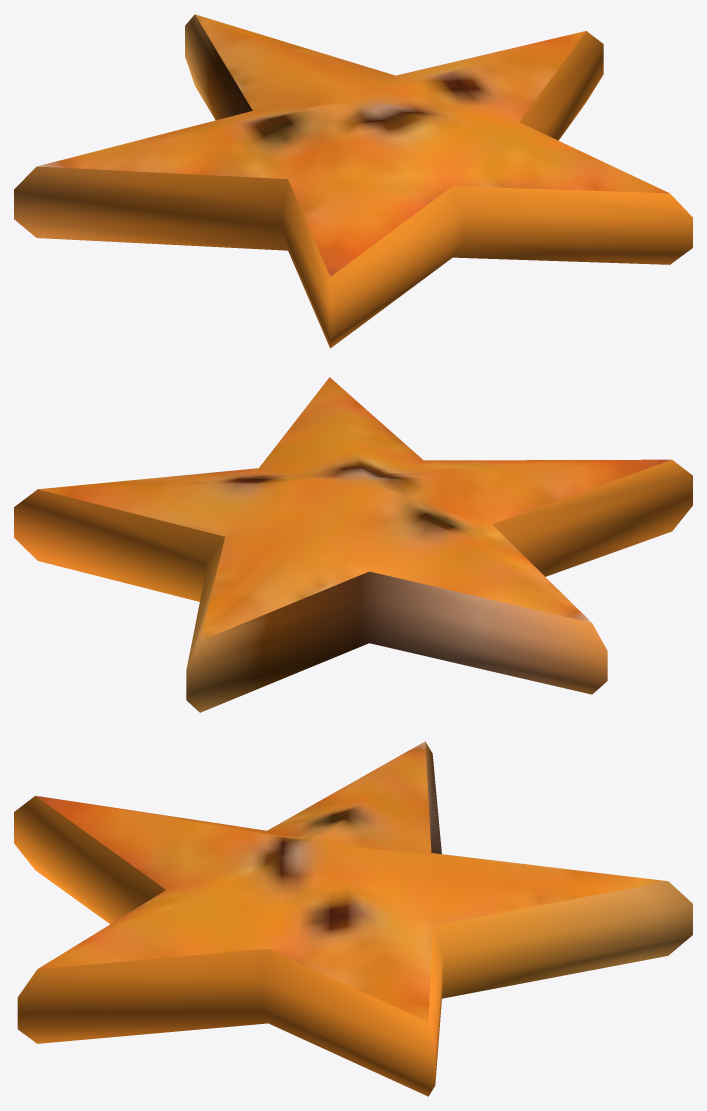
Rendered from Star01.glb.
The picture shows the model from 3 angles, top to bottom: view 1: azimuth 30°, elevation 25°; view 2: azimuth 150°, elevation 25°; view 3: azimuth 270°, elevation 25°; orthographic projection. The views are drawn at different scales.
Parts seen in each view (by area): view 1: Star01; view 2: Star01; view 3: Star01.
Boxes of the visible parts, box(x1,y1,x2,y2) form: Star01: box(14, 14, 692, 348); Star01: box(14, 377, 692, 712); Star01: box(14, 741, 692, 1096).
Bounding box in the file's own units: 1.16 × 0.2705 × 1.1.
1 material, 1 textured.
